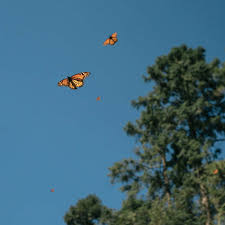Butterfly: (56, 71, 92, 91), (102, 31, 120, 46)
